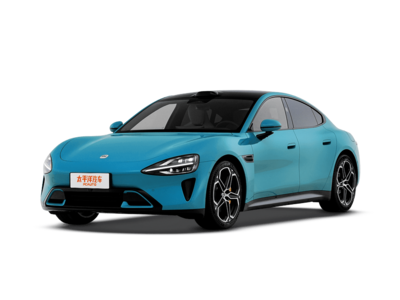su7: (36, 85, 359, 225)
